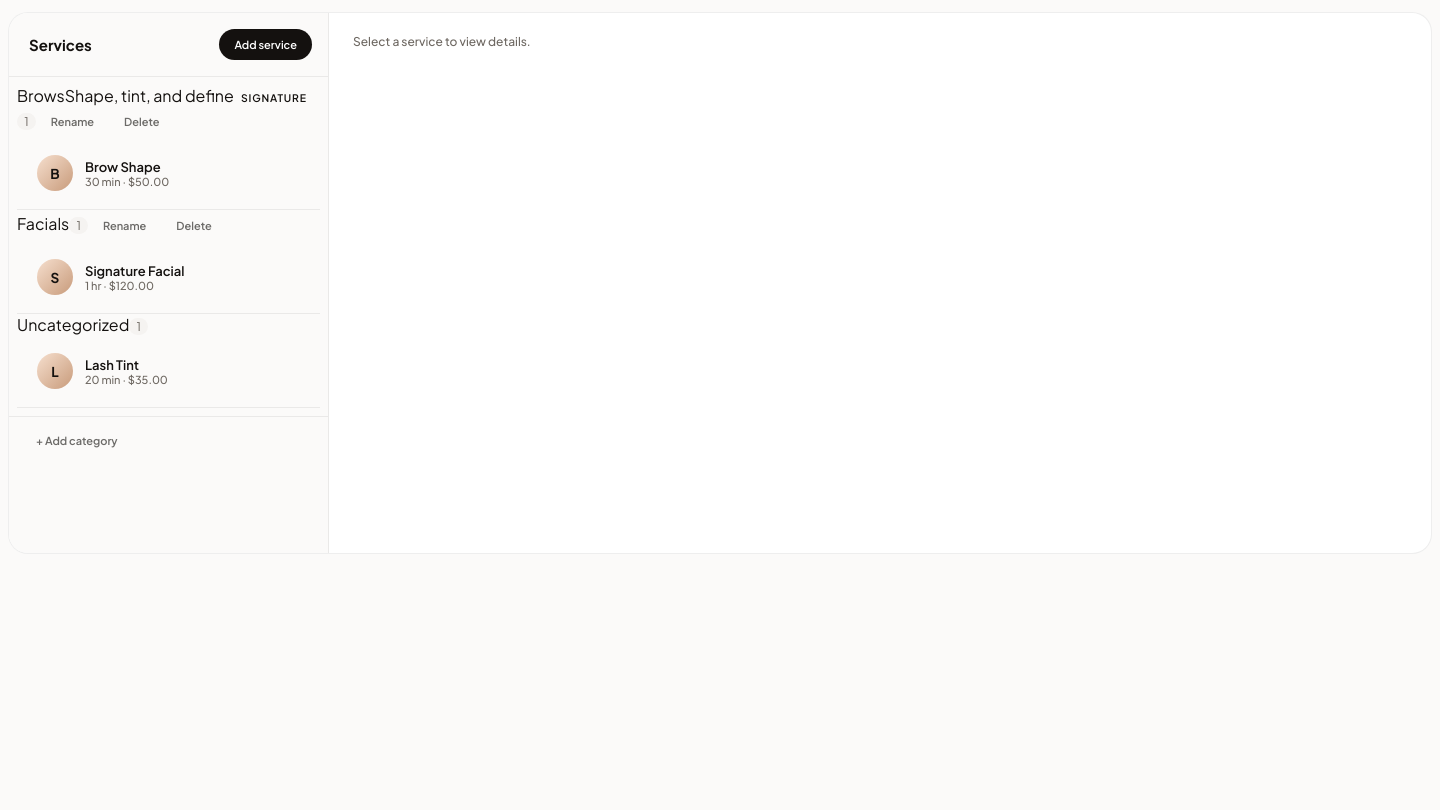
Test case: ServicesPage › copies the scheduling link to the clipboard
The width and height of the screenshot is (1440, 810).
What coordinates should you click on to do the following:
click the text "Brow Shape"
I would click on:
 (127, 166)
Its box is [85, 158, 169, 174].
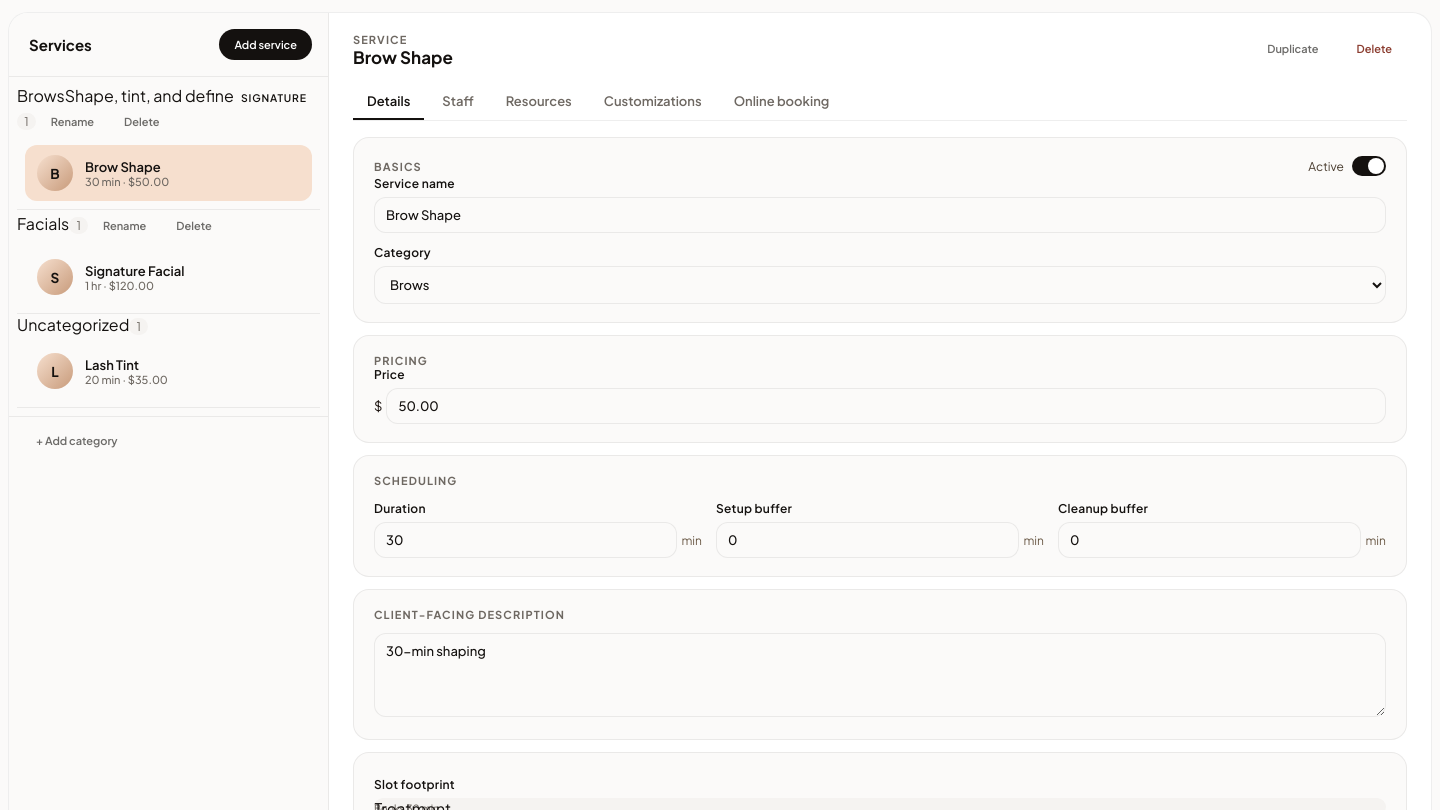
What coordinates should you click on to do the following:
click the tab "Online booking"
I would click on:
 (781, 102)
Its box is [720, 84, 843, 120].
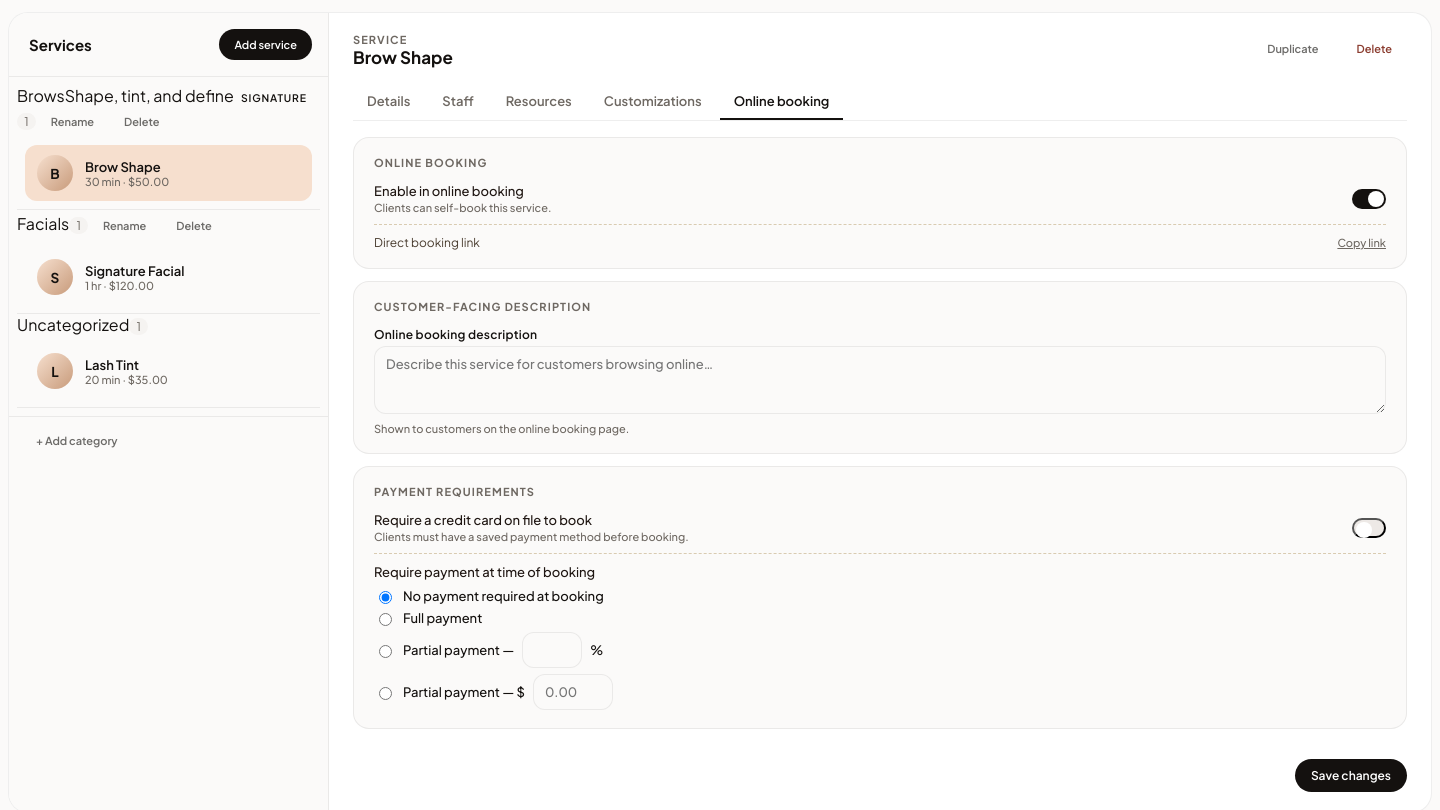
Check: the text "Copy link" is shown
What coordinates should you click on to do the following:
click the text "Copy link"
I would click on:
 (1362, 242)
Its box is [1337, 236, 1386, 249].
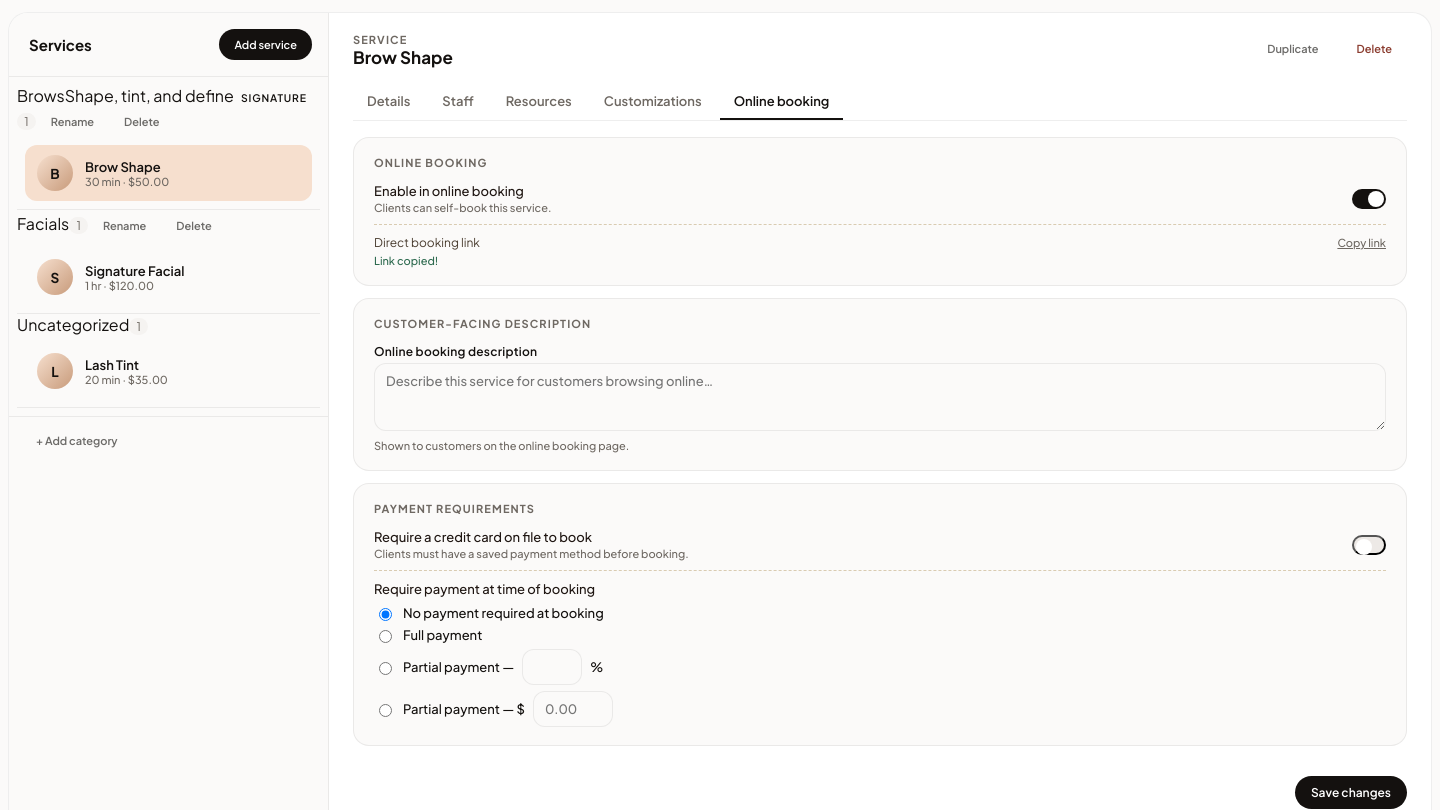
Check: the text "Link copied!" is shown, box [374, 254, 438, 267]
